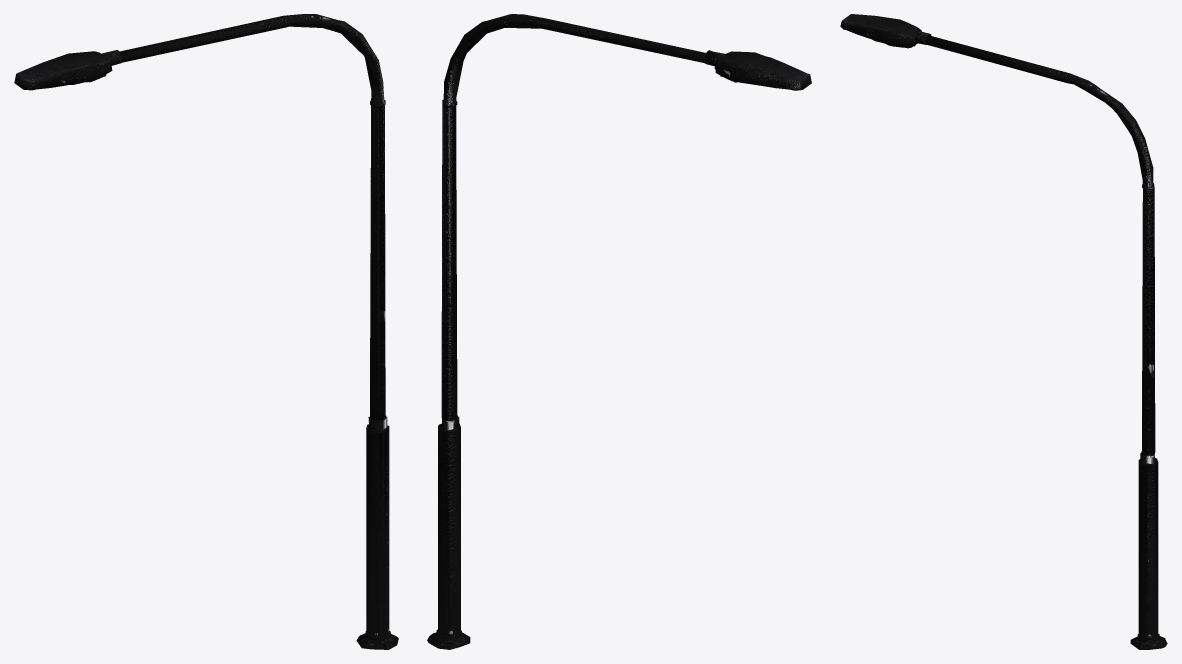
Rendered from streetlight.glb.
3 renders of one model, left to right at view 1: azimuth 30°, elevation 25°; view 2: azimuth 150°, elevation 25°; view 3: azimuth 330°, elevation 25°, orthographic. The views are drawn at different scales.
Visible parts, largest first — view 1: streetlight; view 2: streetlight; view 3: streetlight.
Part boxes in pixels (x1,y1,x2,y2): streetlight: [14, 14, 398, 649]; streetlight: [427, 14, 811, 649]; streetlight: [840, 14, 1167, 649].
Size of the model in its own units: 2.12 by 3.5 by 0.2123.
Materials: 1 (1 with a texture image).
